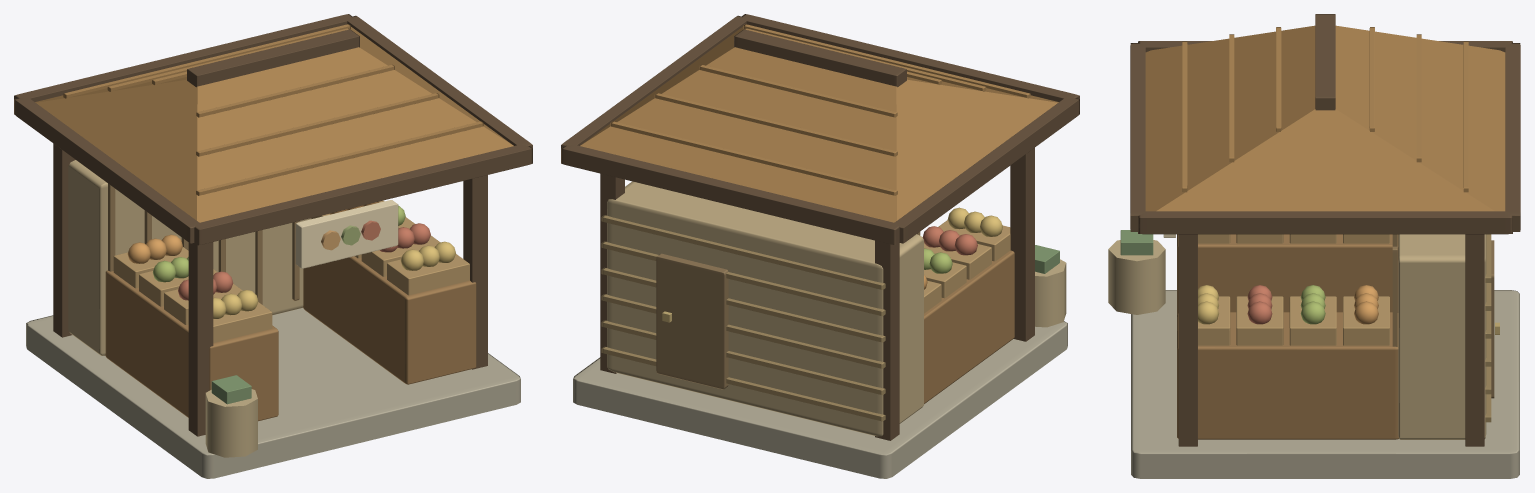
Rendered from grocer-1.glb.
3 views of the same model, side by side, from view 1: azimuth 30°, elevation 25°; view 2: azimuth 150°, elevation 25°; view 3: azimuth 270°, elevation 25° (orthographic). The views are drawn at different scales.
Parts seen in each view (by area): view 1: grocer-1-0; view 2: grocer-1-0; view 3: grocer-1-0.
Part boxes in pixels (x1=…): grocer-1-0: x1=14, y1=14, x2=532, y2=478; grocer-1-0: x1=561, y1=14, x2=1079, y2=478; grocer-1-0: x1=1108, y1=14, x2=1520, y2=478.
Size of the model in its own units: 2.05 by 1.84 by 2.01.
